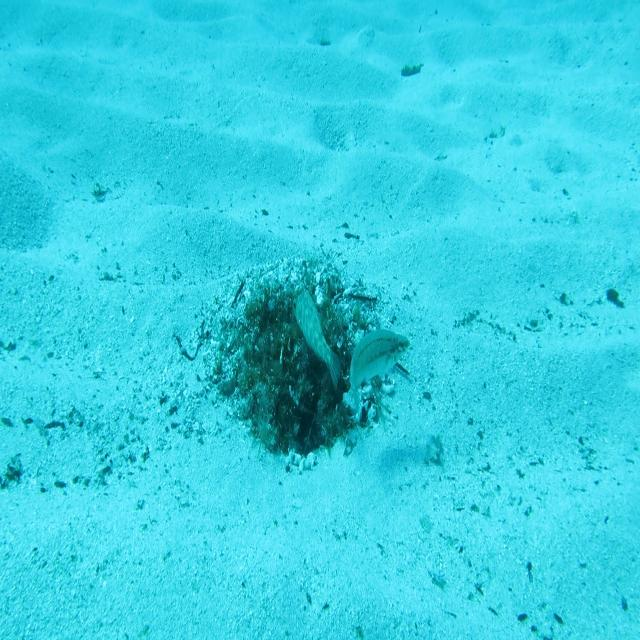NIP_CORE: (292, 284, 342, 394)
core_nest: (266, 305, 322, 338)
female: (347, 325, 414, 421)
nest: (191, 233, 406, 487)
vegetation: (399, 58, 426, 80)
